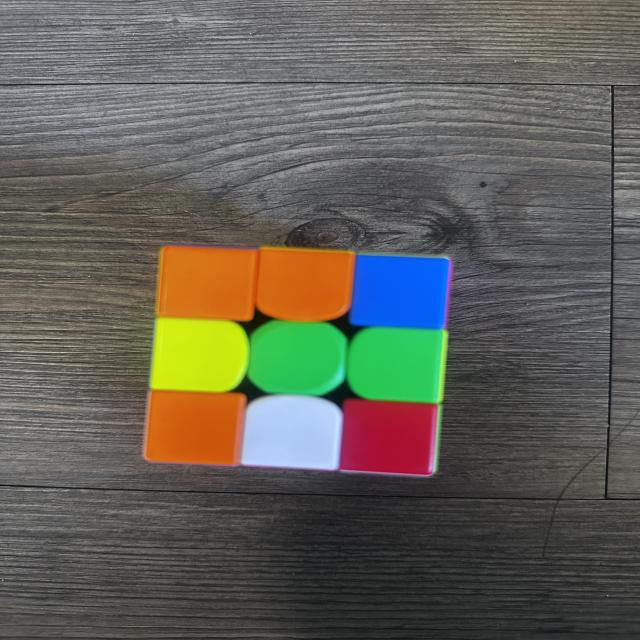sticker: (338, 398, 440, 480), (156, 245, 260, 324), (241, 394, 346, 472), (144, 390, 248, 468), (350, 254, 452, 333), (255, 248, 356, 324), (247, 320, 348, 396), (347, 327, 446, 404), (150, 318, 250, 394)
